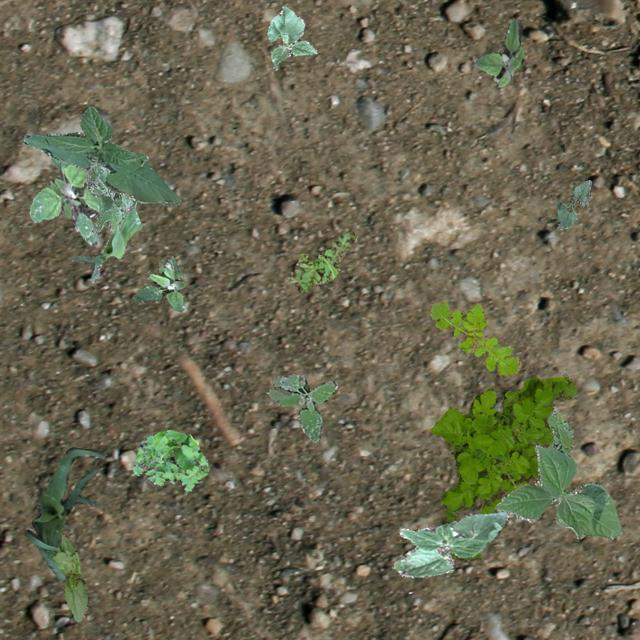crop: (21, 106, 180, 206), (494, 443, 620, 538), (22, 446, 104, 578), (392, 508, 508, 576), (70, 202, 140, 282), (46, 532, 88, 620), (266, 4, 316, 68), (556, 178, 590, 228)
weed: (430, 376, 576, 560), (28, 154, 112, 244), (428, 300, 520, 376), (266, 372, 336, 442), (132, 430, 208, 490), (289, 230, 356, 290), (84, 162, 136, 234), (472, 18, 524, 86), (132, 256, 184, 310), (546, 408, 572, 454)
